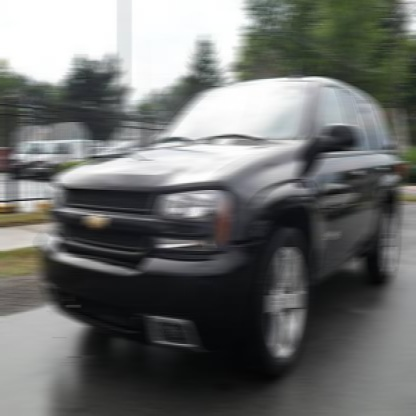Vehicle: (40, 62, 404, 386)
